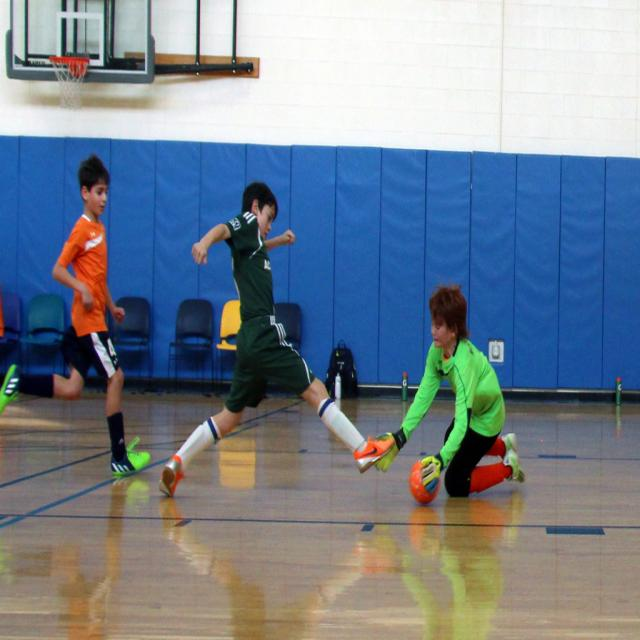Ball: (408, 458, 442, 504)
